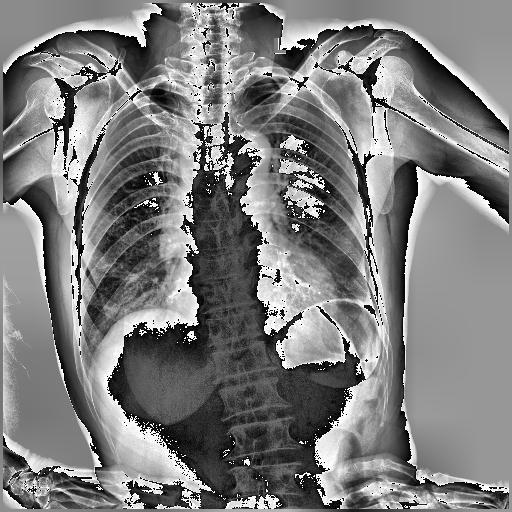0- Aortic enlargement: (228, 129, 270, 189), (224, 130, 272, 182), (236, 130, 272, 174)
3- Cardiomegaly: (164, 267, 340, 330), (164, 266, 336, 314), (164, 263, 339, 309)
